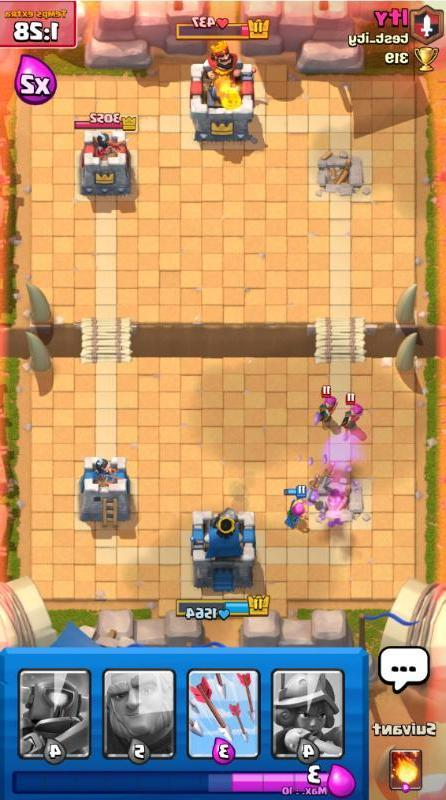player_archers: (338, 392, 371, 440), (280, 484, 310, 530), (310, 386, 340, 428)
